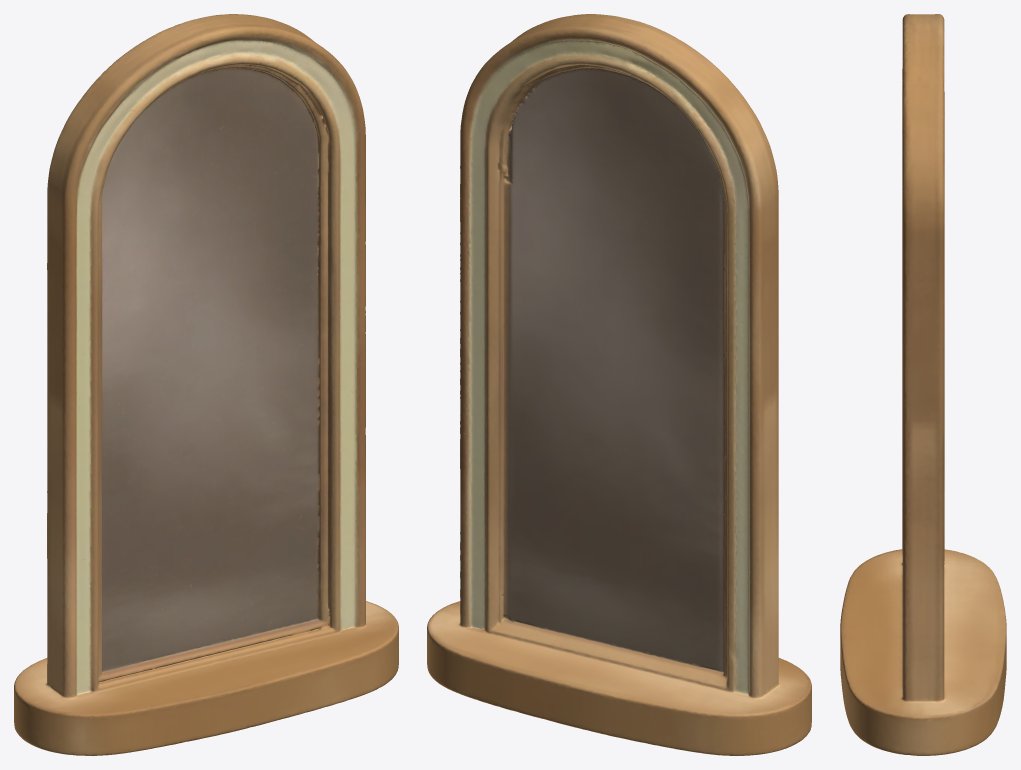
File: _qCrHYm6ZzrTUdPPTBsAW.glb
3 views of the same model, side by side, from view 1: azimuth 30°, elevation 25°; view 2: azimuth 150°, elevation 25°; view 3: azimuth 270°, elevation 25° (orthographic). The views are drawn at different scales.
Parts seen in each view (by area): view 1: world; view 2: world; view 3: world.
Boxes of the visible parts, <box> form: world: <box>14,14,398,755</box>; world: <box>427,14,811,755</box>; world: <box>840,14,1006,755</box>.
Size of the model in its own units: 0.5723 by 1 by 0.2367.
Materials: 1 (1 with a texture image).
